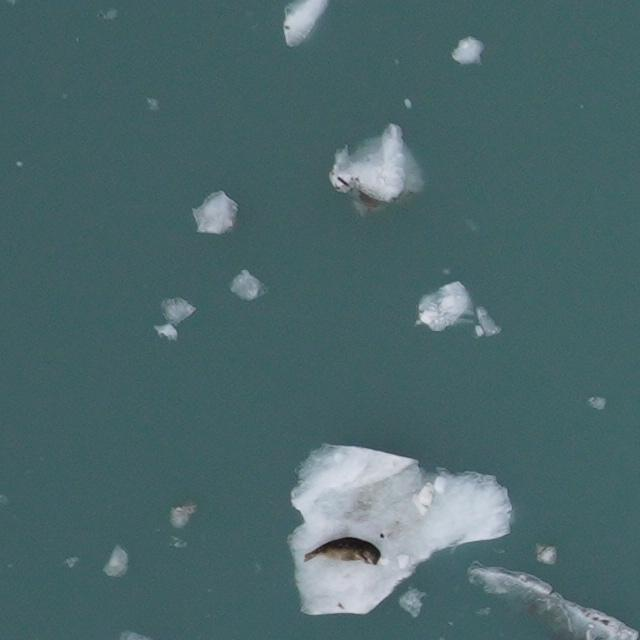seal: (299, 534, 387, 567)
